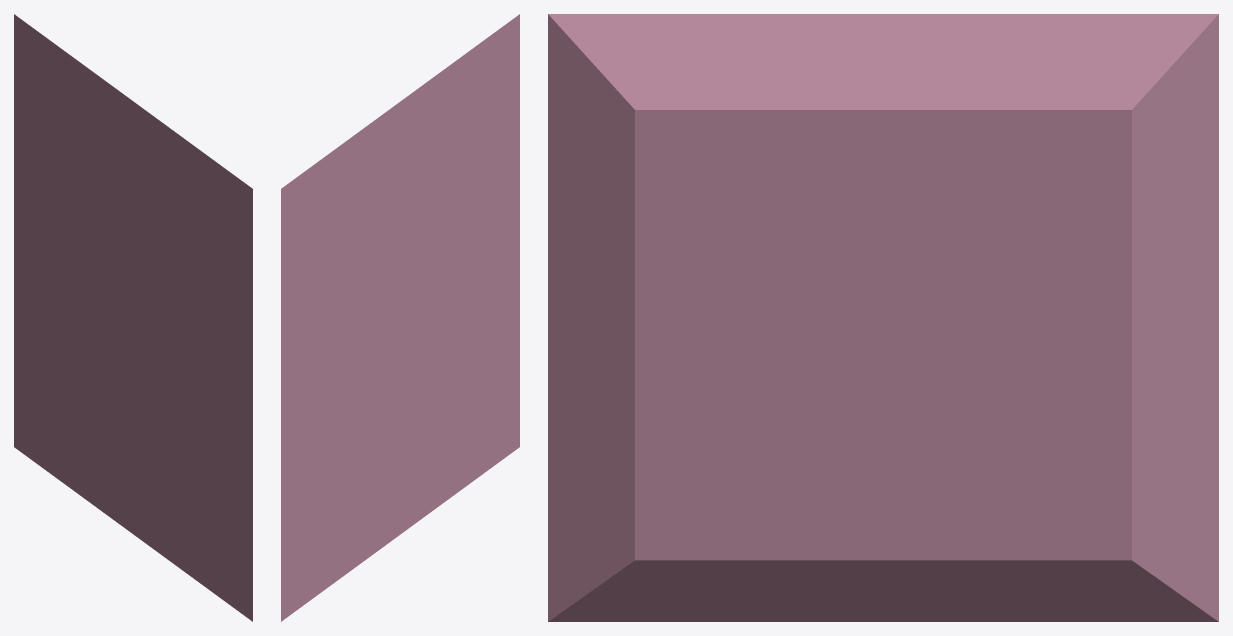
File: WallPanel_01.fbx
The picture shows the model from 3 angles, left to right: view 1: azimuth 30°, elevation 25°; view 2: azimuth 150°, elevation 25°; view 3: azimuth 270°, elevation 25°; orthographic projection. The views are drawn at different scales.
Visible parts, largest first — view 1: Cube; view 2: Cube; view 3: Cube.
Part boxes in pixels (<box>): Cube: <box>14,14,252,621</box>; Cube: <box>281,14,519,621</box>; Cube: <box>548,14,1218,621</box>.
Size of the model in its own units: 0.1211 by 2 by 2.
